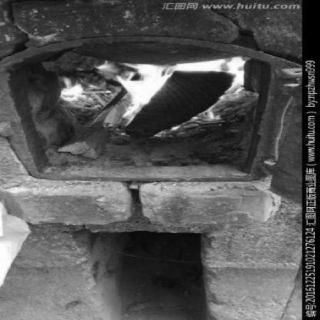Fire: (50, 52, 254, 140)
